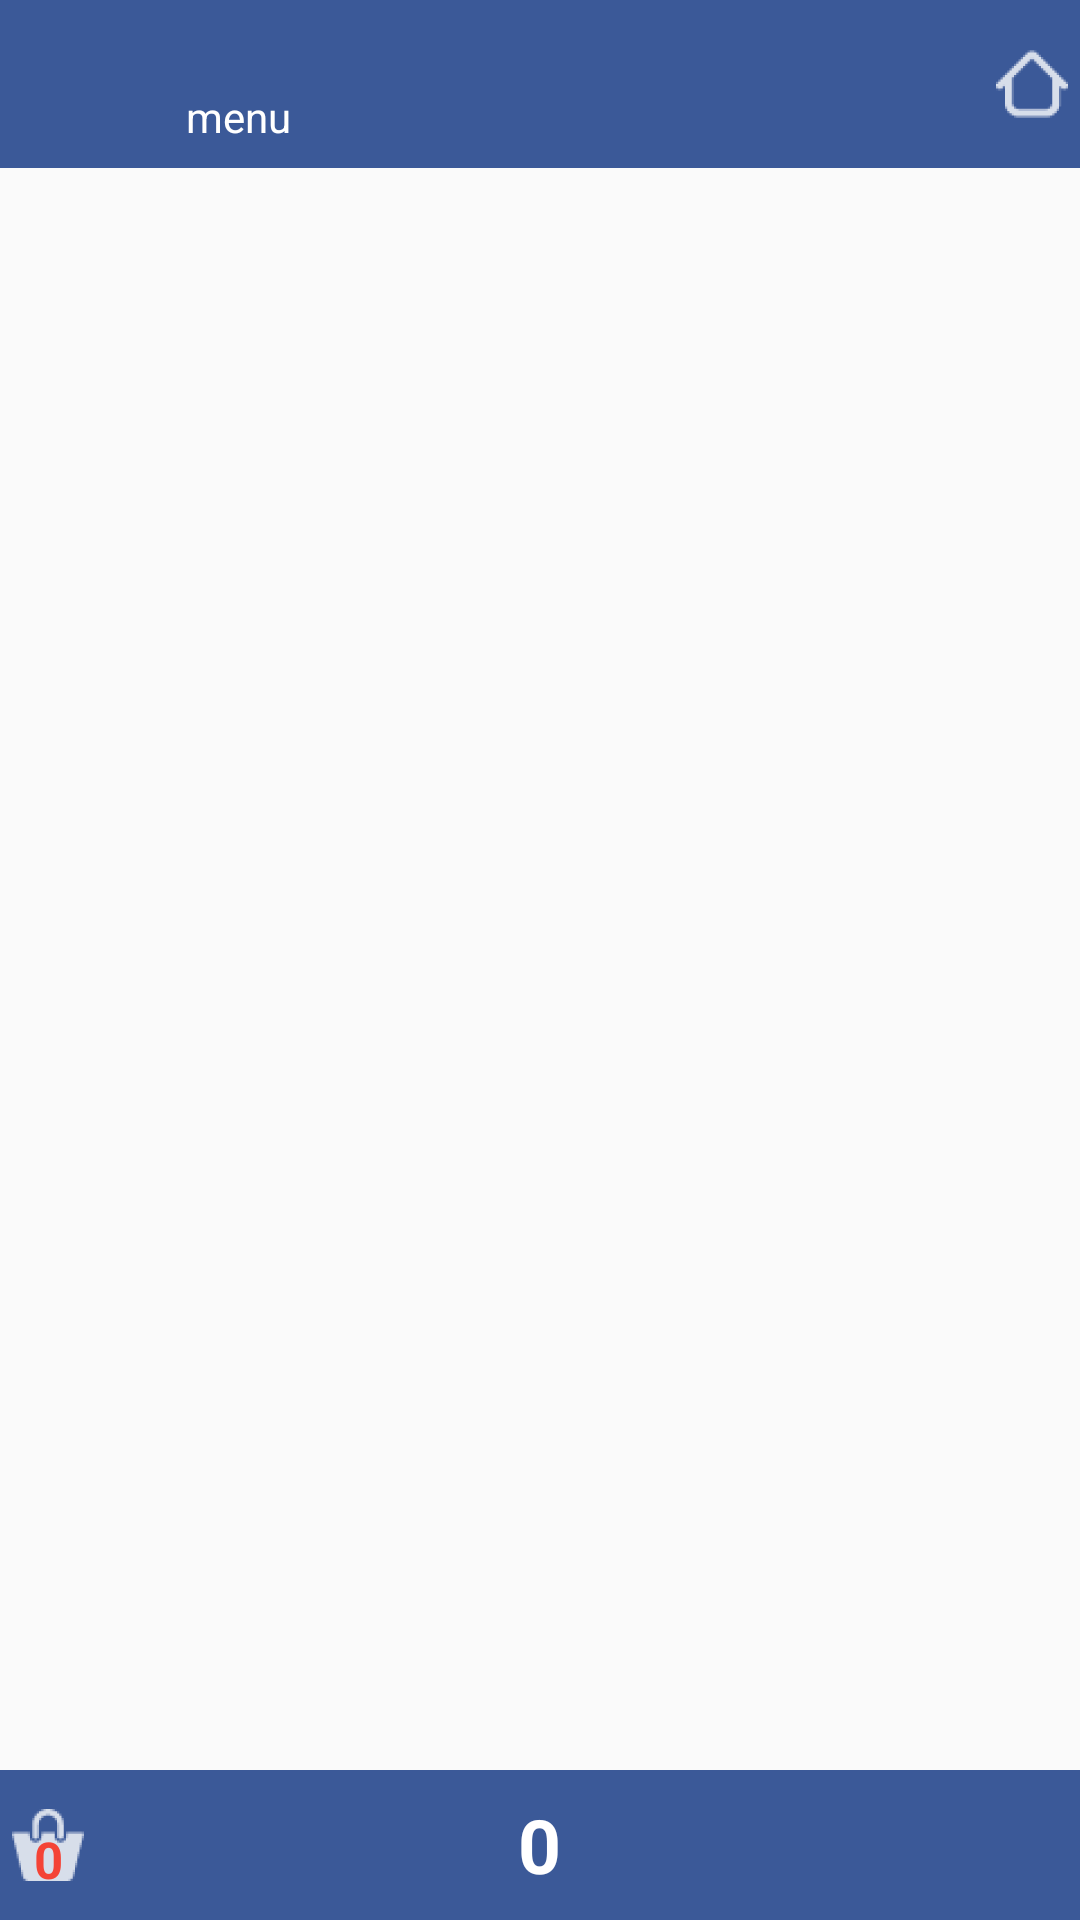

Icon click points for this 1080*1920 phone screenshot, format (x=x, y=y):
home: (x=1032, y=84)
